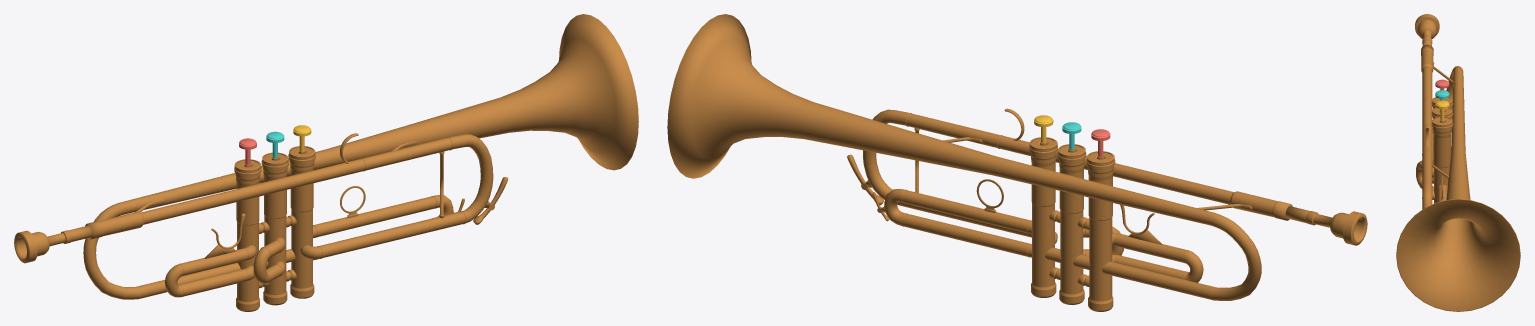
Rendered from trumpet.glb.
3 views of the same model, side by side, from view 1: azimuth 30°, elevation 25°; view 2: azimuth 150°, elevation 25°; view 3: azimuth 270°, elevation 25° (orthographic). The views are drawn at different scales.
Visible parts, largest first — view 1: TrumpetBody_08, TrumpetBody_09, TrumpetBody_13, TrumpetBody_14, TrumpetBody_21, TrumpetBody_11, TrumpetBody_39, TrumpetBody_10, TrumpetBody_20, TrumpetBody_12; view 2: TrumpetBody_08, TrumpetBody_09, TrumpetBody_14, TrumpetBody_13, TrumpetBody_21, TrumpetBody_39, TrumpetBody_10, TrumpetBody_20, TrumpetBody_12; view 3: TrumpetBody_08, TrumpetBody_21, TrumpetBody_10, TrumpetBody_09, TrumpetBody_39, TrumpetBody_12, TrumpetBody_11, Piston_3, TrumpetBody_42, TrumpetBody_14, TrumpetBody_22, Piston_1 (+2 smaller).
Part boxes in pixels (left/top/right/bottom): TrumpetBody_08: left=83, top=14, right=638, bottom=299; TrumpetBody_09: left=236, top=163, right=313, bottom=301; TrumpetBody_13: left=164, top=245, right=256, bottom=297; TrumpetBody_14: left=313, top=195, right=453, bottom=260; TrumpetBody_21: left=236, top=170, right=313, bottom=224; TrumpetBody_11: left=253, top=237, right=285, bottom=283; TrumpetBody_39: left=85, top=211, right=142, bottom=239; TrumpetBody_10: left=19, top=230, right=65, bottom=262; TrumpetBody_20: left=236, top=287, right=314, bottom=310; TrumpetBody_12: left=237, top=147, right=313, bottom=169; TrumpetBody_08: left=667, top=14, right=1261, bottom=300; TrumpetBody_09: left=1031, top=155, right=1113, bottom=301; TrumpetBody_14: left=884, top=189, right=1032, bottom=257; TrumpetBody_13: left=1112, top=232, right=1203, bottom=282; TrumpetBody_21: left=1031, top=163, right=1112, bottom=220; TrumpetBody_39: left=1231, top=191, right=1292, bottom=220; TrumpetBody_10: left=1313, top=211, right=1361, bottom=245; TrumpetBody_20: left=1031, top=286, right=1113, bottom=310; TrumpetBody_12: left=1032, top=138, right=1112, bottom=161; TrumpetBody_08: left=1396, top=66, right=1520, bottom=311; TrumpetBody_21: left=1433, top=135, right=1451, bottom=167; TrumpetBody_10: left=1415, top=14, right=1439, bottom=38; TrumpetBody_09: left=1433, top=130, right=1451, bottom=203; TrumpetBody_39: left=1421, top=44, right=1433, bottom=67; TrumpetBody_12: left=1433, top=98, right=1450, bottom=124; TrumpetBody_11: left=1416, top=160, right=1433, bottom=189; Piston_3: left=1435, top=100, right=1449, bottom=120; TrumpetBody_42: left=1415, top=17, right=1439, bottom=35; TrumpetBody_14: left=1437, top=184, right=1447, bottom=202; TrumpetBody_22: left=1431, top=97, right=1453, bottom=117; Piston_1: left=1435, top=79, right=1449, bottom=90.
Bounding box in the file's own units: 8.93 × 2.74 × 2.07.
